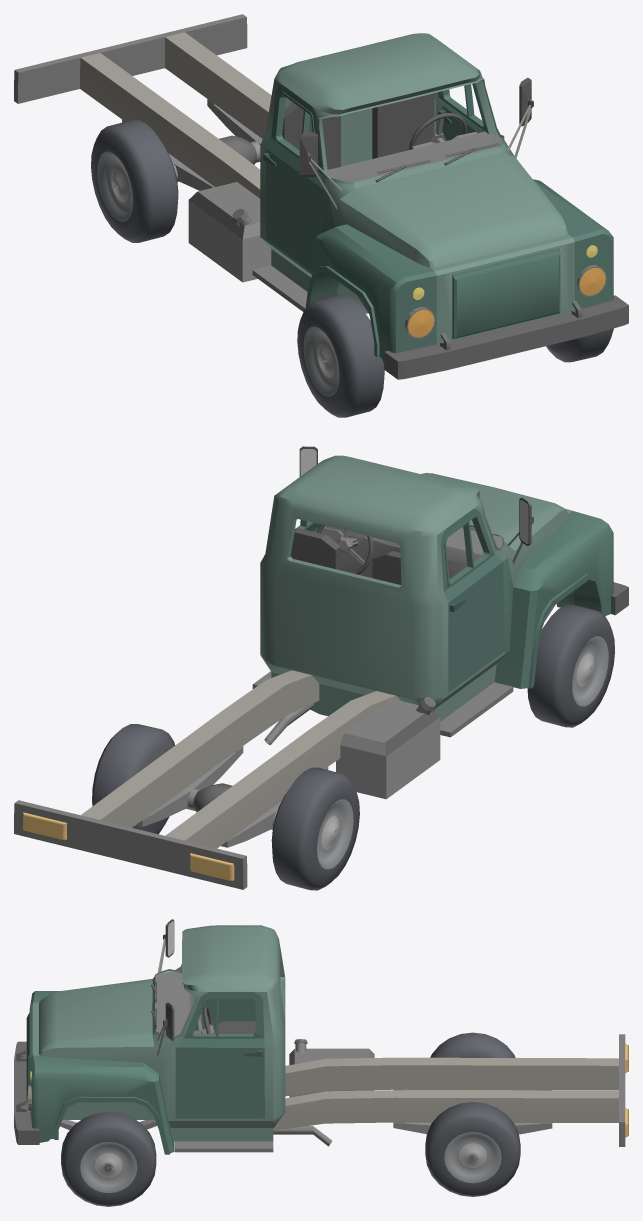
The model's file is Container.gltf.
3 renders of one model, top to bottom at view 1: azimuth 30°, elevation 25°; view 2: azimuth 150°, elevation 25°; view 3: azimuth 270°, elevation 25°, orthographic. The views are drawn at different scales.
Parts seen in each view (by area): view 1: body, wheel_2, wheel_3, wheel_7, wheel_6, wheel_0; view 2: body, wheel_2, wheel_3, wheel_1, wheel_7, wheel_6; view 3: body, wheel_1, wheel_0, wheel_5, wheel_4, wheel_2.
Boxes of the visible parts, <box> form: body: <box>14,14,628,379</box>; wheel_2: <box>91,120,178,242</box>; wheel_3: <box>297,295,384,417</box>; wheel_7: <box>303,326,339,396</box>; wheel_6: <box>97,151,132,221</box>; wheel_0: <box>546,328,613,362</box>; body: <box>14,446,628,889</box>; wheel_2: <box>271,767,359,890</box>; wheel_3: <box>527,604,614,727</box>; wheel_1: <box>92,724,175,834</box>; wheel_7: <box>572,636,608,706</box>; wheel_6: <box>317,799,353,869</box>; body: <box>14,919,628,1177</box>; wheel_1: <box>425,1102,520,1196</box>; wheel_0: <box>61,1112,156,1206</box>; wheel_5: <box>444,1132,501,1183</box>; wheel_4: <box>80,1142,137,1192</box>; wheel_2: <box>430,1032,515,1057</box>.
Bounding box in the file's own units: 3.2 × 2.99 × 7.98.
1 material, 1 textured.
